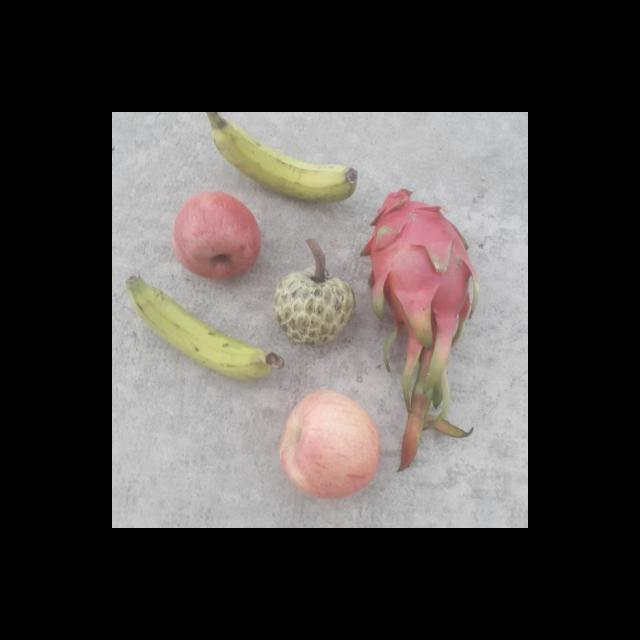Sakya fruit: (272, 240, 358, 348)
apple: (278, 386, 379, 498), (166, 190, 262, 282)
banana: (116, 273, 272, 381), (197, 112, 359, 202)
pitaya: (352, 188, 482, 344)
